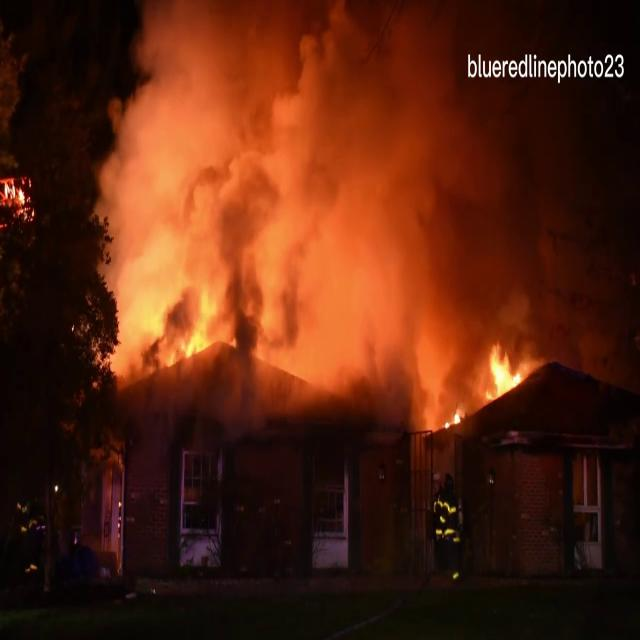Fire: (478, 338, 530, 410)
Smoke: (100, 0, 628, 402)
